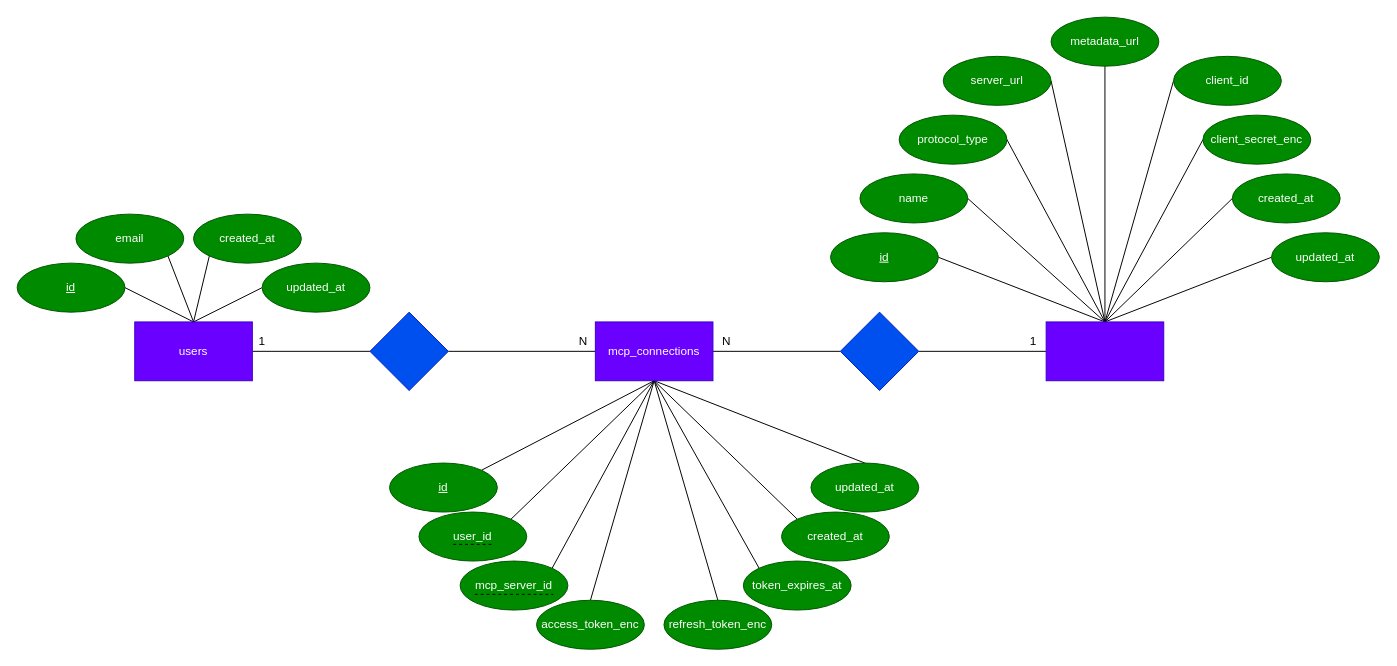
Image size: 1397x666. Some labels were removed from this diagram. The centre of each missing label's shape, as x and y in pixels:
connects to a: (x=879, y=351)
makes an: (x=408, y=351)
mcp_servers: (x=1104, y=351)
